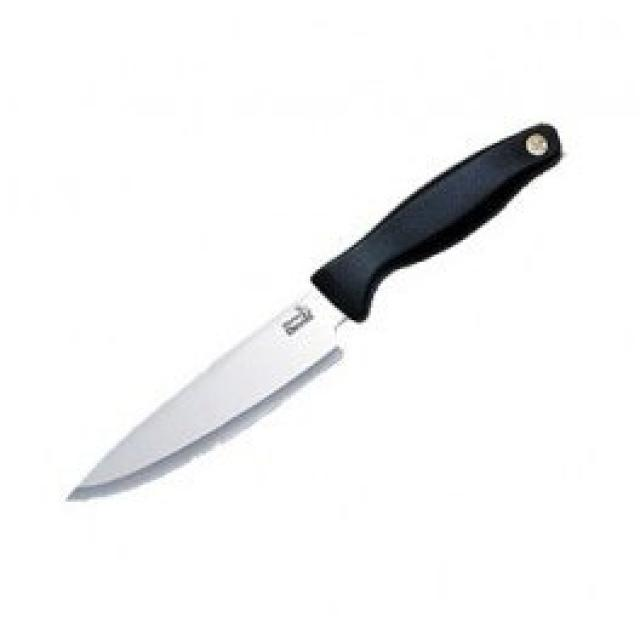Knife: (63, 119, 562, 502)
